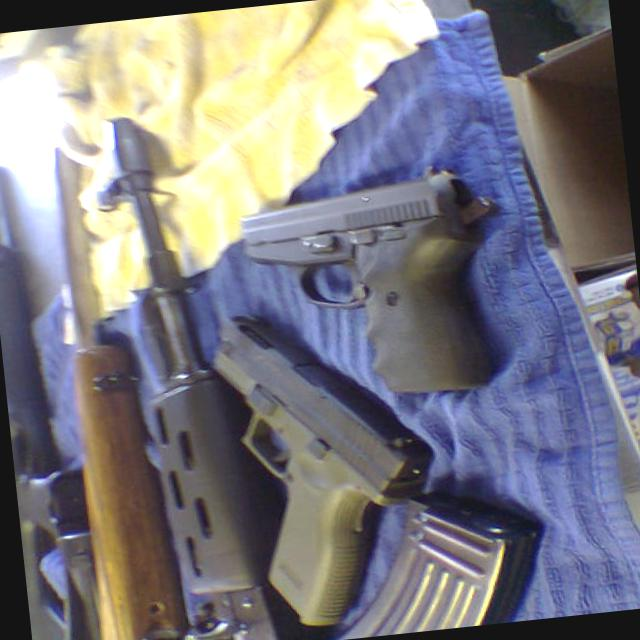handgun: (197, 296, 443, 638), (232, 162, 506, 412)
